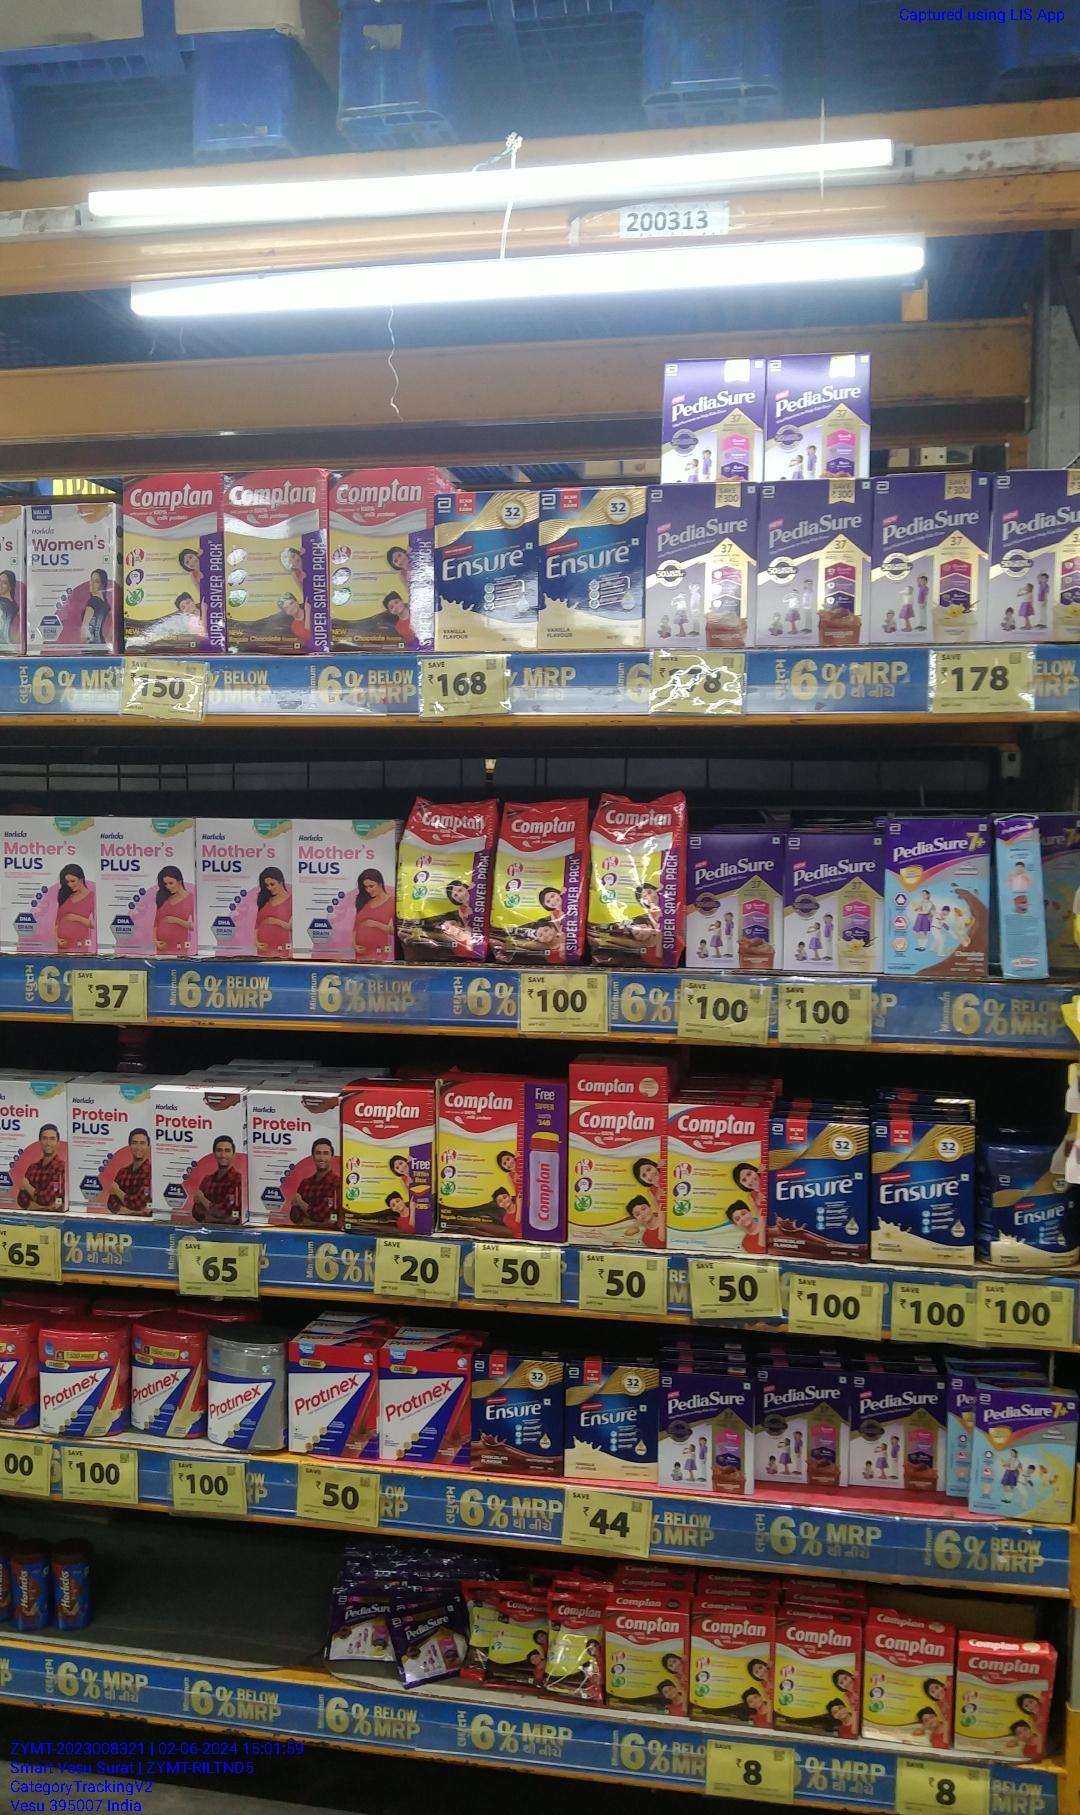PEDIASURE_7_PLUS_CHOCOLATE_400_G_PACK: (888, 819, 987, 979)
PEDIASURE_CHOCOLATE_500_G_PACK: (685, 833, 784, 972), (851, 1368, 946, 1496), (660, 1374, 753, 1498), (757, 1365, 846, 1491)
PEDIASURE_VANILLA_500_G_PACK: (786, 833, 886, 976)
PROTINEX_ORIGINAL_400_G_JAR: (207, 1334, 285, 1451)
PROTINEX_VANILLA_400_G_JAR: (37, 1330, 125, 1440), (136, 1320, 203, 1440)
